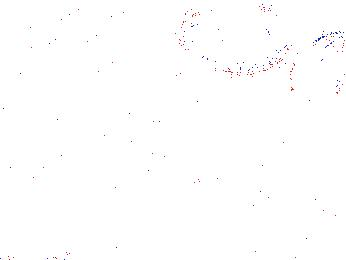moon jellyfish: (177, 1, 294, 77), (289, 32, 346, 123), (79, 1, 178, 53), (15, 4, 95, 58)
